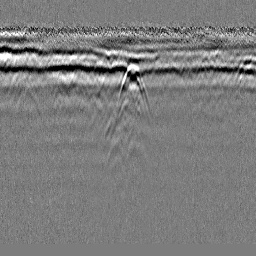cavity: (116, 62, 153, 120)
